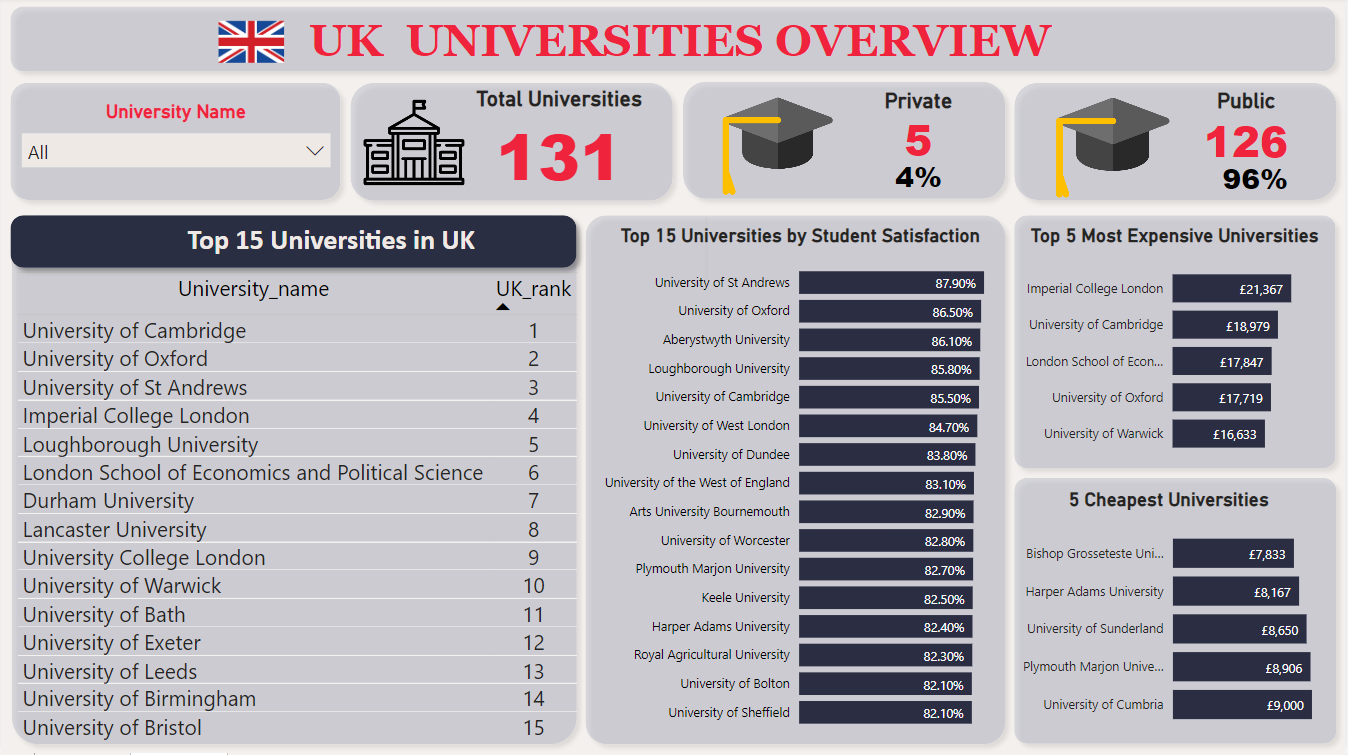

The dashboard page shown, as its layout file describes it:
{"tool":"powerbi","page":{"name":"Page 2","canvas":[1280,720],"ordinal":1},"visuals":[{"type":"shape","box":[955.6,448.7,324.9,271.3],"z":0},{"type":"shape","box":[1.2,198.7,555.8,521.3],"z":1000},{"type":"shape","box":[955.1,72.6,324.9,129.7],"z":2000},{"type":"shape","box":[639.7,71.4,325,129.7],"z":3000},{"type":"shape","box":[0,72.6,332,129.7],"z":4000},{"type":"shape","box":[323.7,72.6,325,130],"z":5000},{"type":"card","title":"Total Universities","fields":{"Values":["All Measures.Total Universities"]},"box":[430.8,84.5,201.1,104.7],"z":6000},{"type":"slicer","title":"University Name","fields":{"Values":["UK Universities.University_name"]},"box":[9.5,98.8,314.2,77.4],"z":7000},{"type":"card","title":"Private","fields":{"Values":["All Measures.Private University"]},"box":[802.1,86.9,142.8,71.4],"z":8000},{"type":"card","title":"Public","fields":{"Values":["All Measures.Public University"]},"box":[1091.3,86.9,188,76.2],"z":9000},{"type":"shape","box":[0,0,1279.3,79.7],"z":10000},{"type":"textbox","box":[288,11.9,728.3,63.1],"z":11000},{"type":"card","fields":{"Values":["All Measures.% Public"]},"box":[1131.8,134.5,125,78.5],"z":12000},{"type":"card","fields":{"Values":["All Measures.% Private"]},"box":[814,134.5,119,75],"z":13000},{"type":"image","box":[202.3,13.1,72.6,58.3],"z":14000},{"type":"image","box":[340.4,80.9,105.9,114.2],"z":15000},{"type":"image","box":[631.9,84.5,214.2,114.2],"z":16000},{"type":"image","box":[950.9,84.5,214.2,117.8],"z":17000},{"type":"shape","box":[620,209.5,103.5,64.3],"z":18000},{"type":"shape","box":[955.6,198.7,323.7,259.4],"z":19000},{"type":"tableEx","fields":{"Values":["UK Universities.University_name","Sum(UK Universities.UK_rank)"]},"box":[9.5,257.1,547.4,462.9],"z":20000},{"type":"shape","box":[0,198.7,557,67.8],"z":21000},{"type":"textbox","box":[172.6,209.5,317.8,63.1],"z":22000},{"type":"barChart","title":"Top 5 Most Expensive Universities","fields":{"Category":["UK Universities.University_name"],"Y":["All Measures.Expensive Average"]},"box":[955.6,216.6,323.7,232.1],"z":23000},{"type":"barChart","title":"5 Cheapest Universities","fields":{"Category":["UK Universities.University_name"],"Y":["All Measures.Expensive Average"]},"box":[955.6,467.7,311.8,240.4],"z":24000},{"type":"shape","box":[547.4,198.7,417.7,521.3],"z":25000},{"type":"barChart","title":"Top 15 Universities by Student Satisfaction","fields":{"Category":["UK Universities.University_name"],"Y":["Sum(UK Universities.Student_satisfaction)"]},"box":[557,216.6,408.2,491.5],"z":26000}]}

Visuals, with their boxes in screenshot pixels (x1, y1, x2, y2), scaled from the page's 1280x720 canvas onto the 1348x755 screenshot:
shape: 1006:471:1347:754
shape: 1:208:587:754
shape: 1006:76:1347:212
shape: 674:75:1016:211
shape: 0:76:350:212
shape: 341:76:683:212
"Total Universities" card: 454:89:665:198
"University Name" slicer: 10:104:341:185
"Private" card: 845:91:995:166
"Public" card: 1149:91:1347:171
shape: 0:0:1347:84
textbox: 303:12:1070:79
card - All Measures.% Public: 1192:141:1324:223
card - All Measures.% Private: 857:141:983:220
image: 213:14:290:75
image: 358:85:470:205
image: 665:89:891:208
image: 1001:89:1227:212
shape: 653:220:762:287
shape: 1006:208:1347:480
tableEx - UK Universities.University_name x Sum(UK Universities.UK_rank): 10:270:586:754
shape: 0:208:587:279
textbox: 182:220:516:286
"Top 5 Most Expensive Universities" barChart: 1006:227:1347:471
"5 Cheapest Universities" barChart: 1006:490:1335:743
shape: 576:208:1016:754
"Top 15 Universities by Student Satisfaction" barChart: 587:227:1016:743
